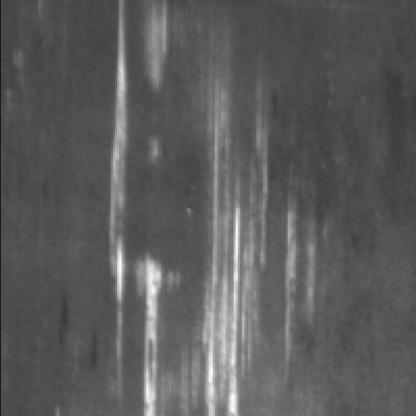scratches: (112, 0, 177, 410), (202, 69, 270, 414), (281, 181, 331, 368)
